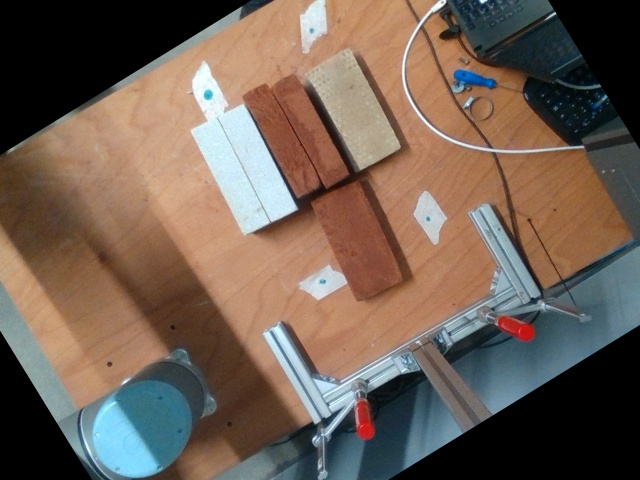brick: (308, 47, 401, 167), (313, 178, 401, 298)
brick-side: (217, 102, 296, 221), (192, 116, 271, 235), (270, 73, 351, 187), (242, 82, 322, 197)
